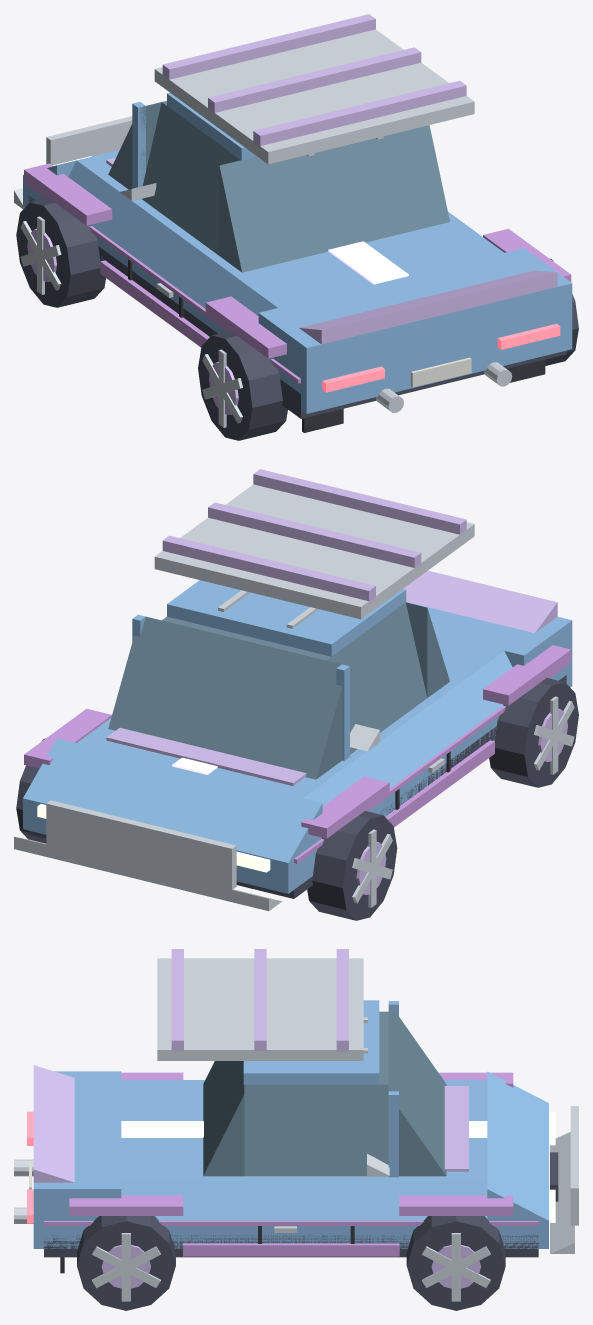
Rendered from lantern_cab.glb.
3 views of the same model, one above another, from view 1: azimuth 30°, elevation 25°; view 2: azimuth 150°, elevation 25°; view 3: azimuth 270°, elevation 25° (orthographic). The views are drawn at different scales.
Visible parts, largest first — view 1: RearWindow.147, Tail.047, RoofRack.013, BodyUpper.044, ShoulderL.044, CabinSideL.044, Body.247, Ducktail.033, Wheel_RL.207, Wheel_FL.207, RackBar0.014, RackBar1.014 (+18 smaller); view 2: Windshield.147, Nose.044, RoofRack.013, Bullbar.022, Roof.247, ShoulderL.044, CabinSideL.044, Wheel_FL.207, Wheel_RL.207, BodyUpper.044, Ducktail.033, Body.247 (+17 smaller); view 3: RoofRack.013, CabinSideR.044, ShoulderR.044, BodyUpper.044, Tail.047, Nose.044, Windshield.147, Body.247, Wheel_FR.207, Wheel_RR.207, Ducktail.033, RearWindow.147 (+25 smaller).
Boxes of the visible parts, x1=… form: RearWindow.147: x1=219, y1=125, x2=449, y2=272; Tail.047: x1=258, y1=248, x2=572, y2=382; RoofRack.013: x1=154, y1=29, x2=474, y2=164; BodyUpper.044: x1=77, y1=150, x2=503, y2=307; ShoulderL.044: x1=68, y1=160, x2=277, y2=315; CabinSideL.044: x1=142, y1=102, x2=240, y2=255; Body.247: x1=23, y1=175, x2=572, y2=413; Ducktail.033: x1=299, y1=270, x2=557, y2=344; Wheel_RL.207: x1=198, y1=331, x2=287, y2=440; Wheel_FL.207: x1=16, y1=198, x2=105, y2=307; RackBar0.014: x1=208, y1=47, x2=421, y2=114; RackBar1.014: x1=253, y1=80, x2=466, y2=147; Windshield.147: x1=108, y1=616, x2=342, y2=779; Nose.044: x1=23, y1=738, x2=322, y2=862; RoofRack.013: x1=154, y1=484, x2=474, y2=619; Bullbar.022: x1=46, y1=800, x2=236, y2=889; Roof.247: x1=167, y1=580, x2=406, y2=656; ShoulderL.044: x1=303, y1=651, x2=512, y2=805; CabinSideL.044: x1=326, y1=602, x2=427, y2=754; Wheel_FL.207: x1=307, y1=811, x2=397, y2=920; Wheel_RL.207: x1=489, y1=678, x2=578, y2=787; BodyUpper.044: x1=77, y1=634, x2=503, y2=798; Ducktail.033: x1=403, y1=570, x2=557, y2=633; Body.247: x1=23, y1=655, x2=572, y2=893; RoofRack.013: x1=157, y1=958, x2=363, y2=1060; CabinSideR.044: x1=244, y1=1084, x2=388, y2=1176; ShoulderR.044: x1=121, y1=1180, x2=487, y2=1220; BodyUpper.044: x1=121, y1=1080, x2=487, y2=1180; Tail.047: x1=33, y1=1071, x2=121, y2=1220; Nose.044: x1=487, y1=1071, x2=548, y2=1220; Windshield.147: x1=388, y1=1005, x2=446, y2=1176; Body.247: x1=33, y1=1221, x2=548, y2=1248; Wheel_FR.207: x1=406, y1=1216, x2=505, y2=1310; Wheel_RR.207: x1=77, y1=1216, x2=175, y2=1310; Ducktail.033: x1=33, y1=1065, x2=74, y2=1182; RearWindow.147: x1=203, y1=1061, x2=244, y2=1176.
Bounding box in the file's own units: 3.4 × 2.61 × 5.48.
